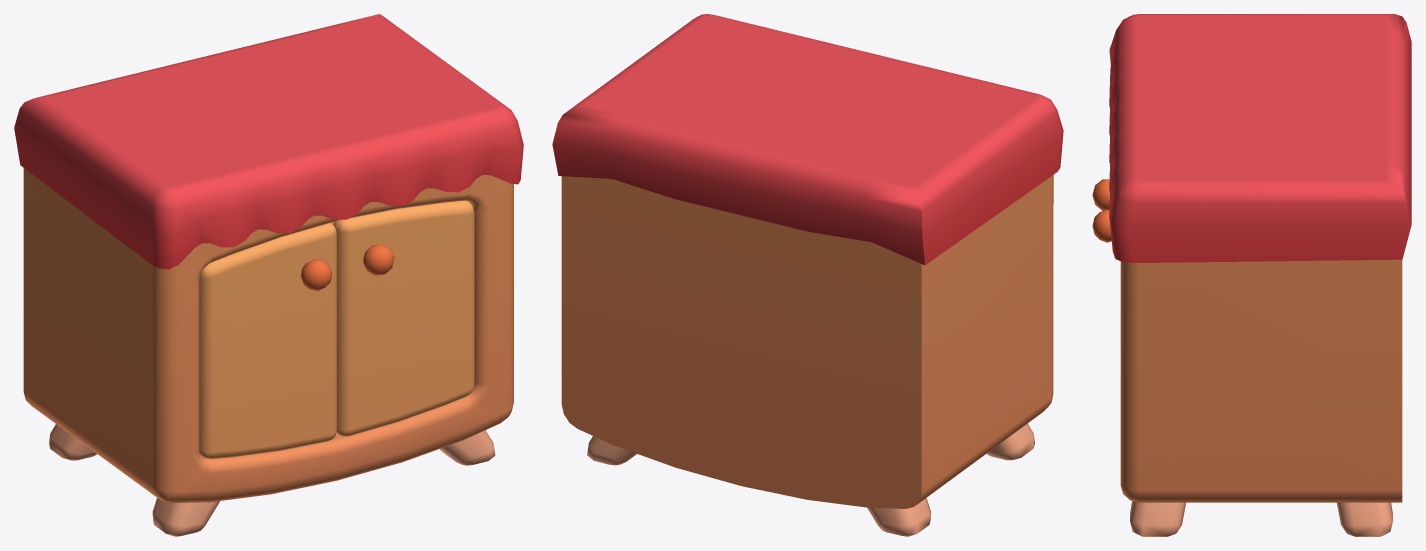
The model's file is Kitchen_D_01.glb.
The picture shows the model from 3 angles, left to right: view 1: azimuth 30°, elevation 25°; view 2: azimuth 150°, elevation 25°; view 3: azimuth 270°, elevation 25°; orthographic projection. The views are drawn at different scales.
Visible parts, largest first — view 1: Kitchen_D_01; view 2: Kitchen_D_01; view 3: Kitchen_D_01.
Boxes of the visible parts, x1,y1,x2,y2 form: Kitchen_D_01: (14, 14, 523, 536); Kitchen_D_01: (552, 14, 1063, 536); Kitchen_D_01: (1092, 14, 1411, 536).
Bounding box in the file's own units: 0.9248 × 0.8501 × 0.6793.
1 material, 1 textured.
